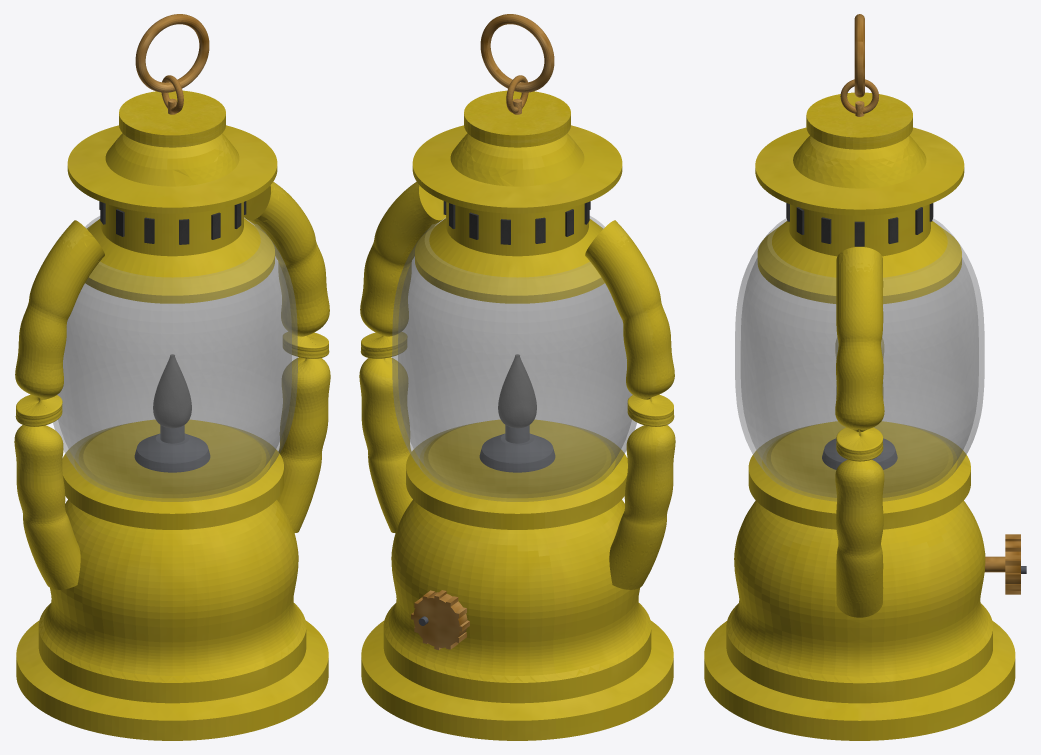
File: Light_Latern__0876.glb
3 renders of one model, left to right at view 1: azimuth 30°, elevation 25°; view 2: azimuth 150°, elevation 25°; view 3: azimuth 270°, elevation 25°, orthographic.
Parts seen in each view (by area): view 1: lantern_body::green_body_shell, lantern_body::globe_glass, lantern_body::draft_tube_1, lantern_body::draft_tube_0, lantern_body::apex_seat, lantern_body::burner_wick, carry_hanger_ring::hanger_ring_wire, lantern_body::flame; view 2: lantern_body::green_body_shell, lantern_body::globe_glass, lantern_body::draft_tube_1, lantern_body::draft_tube_0, lantern_body::apex_seat, lantern_body::burner_wick, wick_knob::knob_knurled_disk, carry_hanger_ring::hanger_ring_wire, lantern_body::flame; view 3: lantern_body::green_body_shell, lantern_body::globe_glass, lantern_body::draft_tube_0, lantern_body::apex_seat, wick_knob::knob_knurled_disk, carry_hanger_ring::hanger_ring_wire, lantern_body::burner_wick, lantern_body::top_eye_ring.
Boxes of the visible parts, x1,y1,x2,y2 form: lantern_body::green_body_shell: (16, 125, 328, 740); lantern_body::globe_glass: (53, 216, 297, 501); lantern_body::draft_tube_1: (14, 220, 104, 589); lantern_body::draft_tube_0: (244, 182, 330, 533); lantern_body::apex_seat: (119, 90, 225, 147); lantern_body::burner_wick: (134, 425, 210, 472); carry_hanger_ring::hanger_ring_wire: (135, 14, 209, 92); lantern_body::flame: (153, 354, 191, 428); lantern_body::green_body_shell: (361, 125, 673, 740); lantern_body::globe_glass: (392, 216, 636, 501); lantern_body::draft_tube_1: (585, 220, 675, 589); lantern_body::draft_tube_0: (359, 181, 445, 532); lantern_body::apex_seat: (464, 90, 570, 147); lantern_body::burner_wick: (479, 425, 555, 472); wick_knob::knob_knurled_disk: (411, 590, 469, 649); carry_hanger_ring::hanger_ring_wire: (480, 14, 554, 92); lantern_body::flame: (498, 354, 536, 428); lantern_body::green_body_shell: (704, 127, 1015, 740); lantern_body::globe_glass: (735, 218, 984, 501); lantern_body::draft_tube_0: (835, 247, 884, 617); lantern_body::apex_seat: (806, 92, 912, 149); wick_knob::knob_knurled_disk: (984, 534, 1020, 594); carry_hanger_ring::hanger_ring_wire: (854, 14, 864, 97); lantern_body::burner_wick: (822, 438, 897, 469); lantern_body::top_eye_ring: (840, 79, 878, 113).
Size of the model in its own units: 0.1601 by 0.3262 by 0.1451.
Materials: 6 (5 with a texture image).
